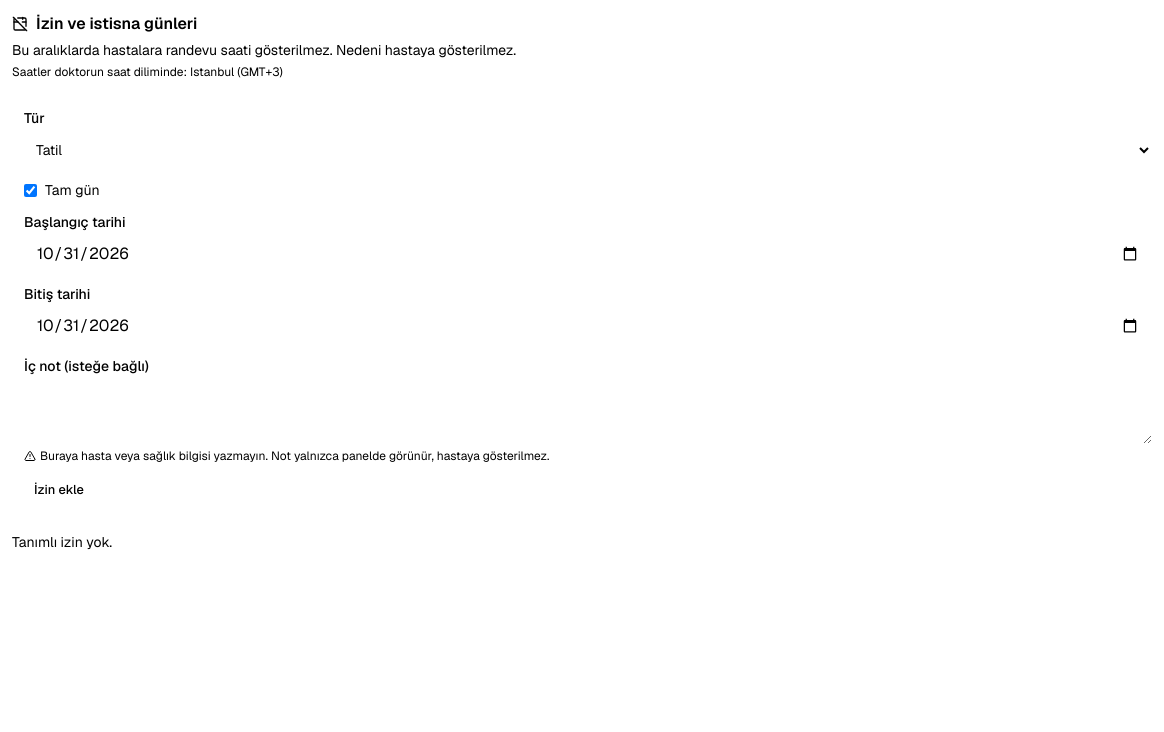
Test case: izin yönetimi › iç not uyarısı görünür; çakışan onaylı randevular kayıttan sonra listelenir (kayıt engellenmez)
Expected: the text "hasta veya sağlık bilgisi yazmayın" is shown, x1=40 y1=448 x2=549 y2=464
Select "Kongre" in the dropdown labelled "Tür": (588, 150) x1=24 y1=132 x2=1152 y2=168
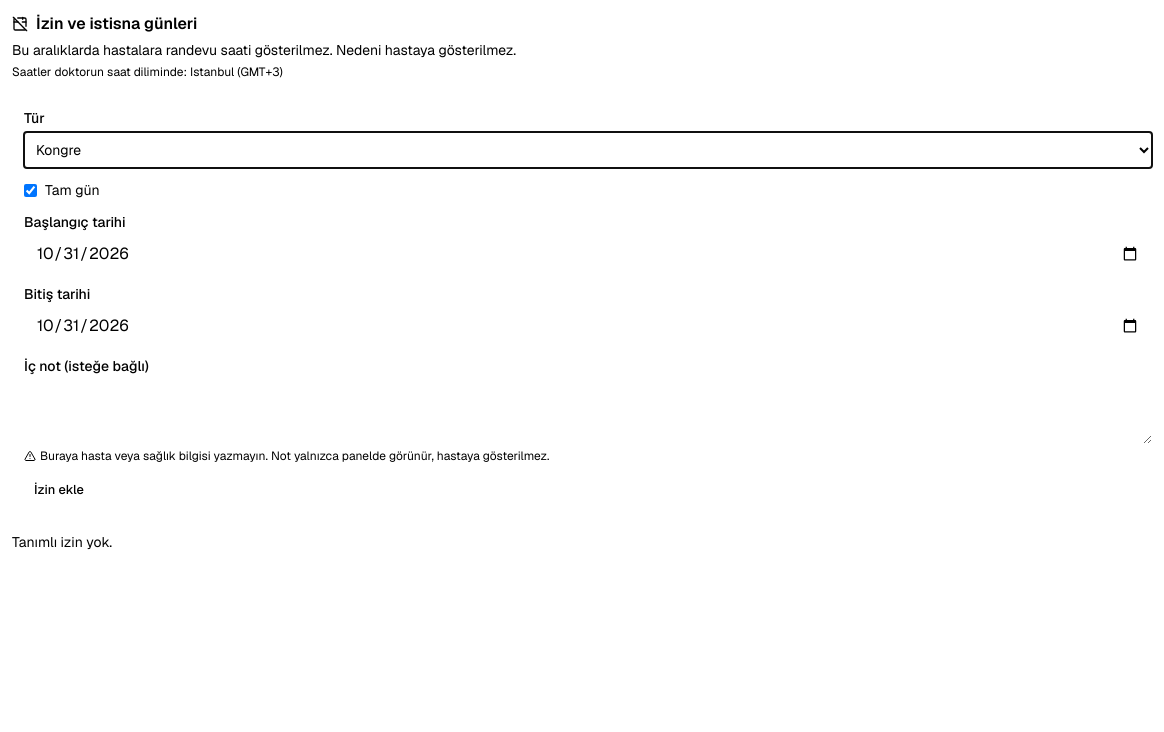
In the date field labelled "Başlangıç tarihi": (588, 254) x1=24 y1=236 x2=1152 y2=272, type "2026-11-03"
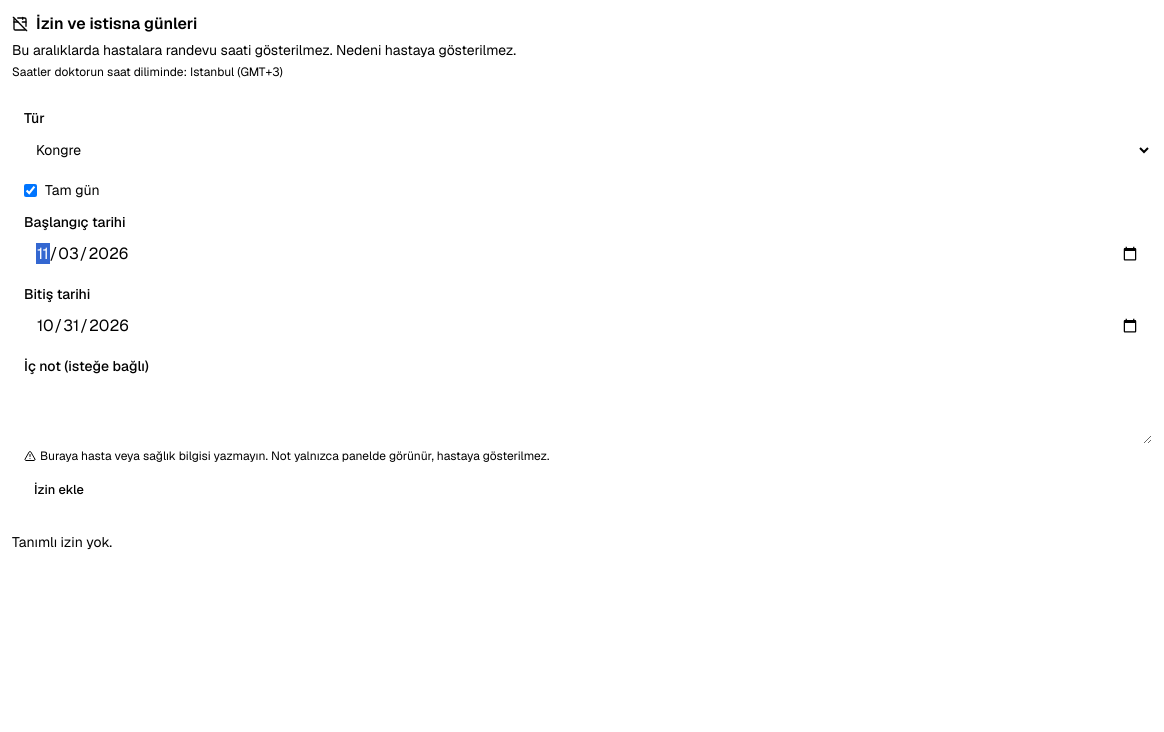
In the date field labelled "Bitiş tarihi": (588, 326) x1=24 y1=308 x2=1152 y2=344, type "2026-11-03"
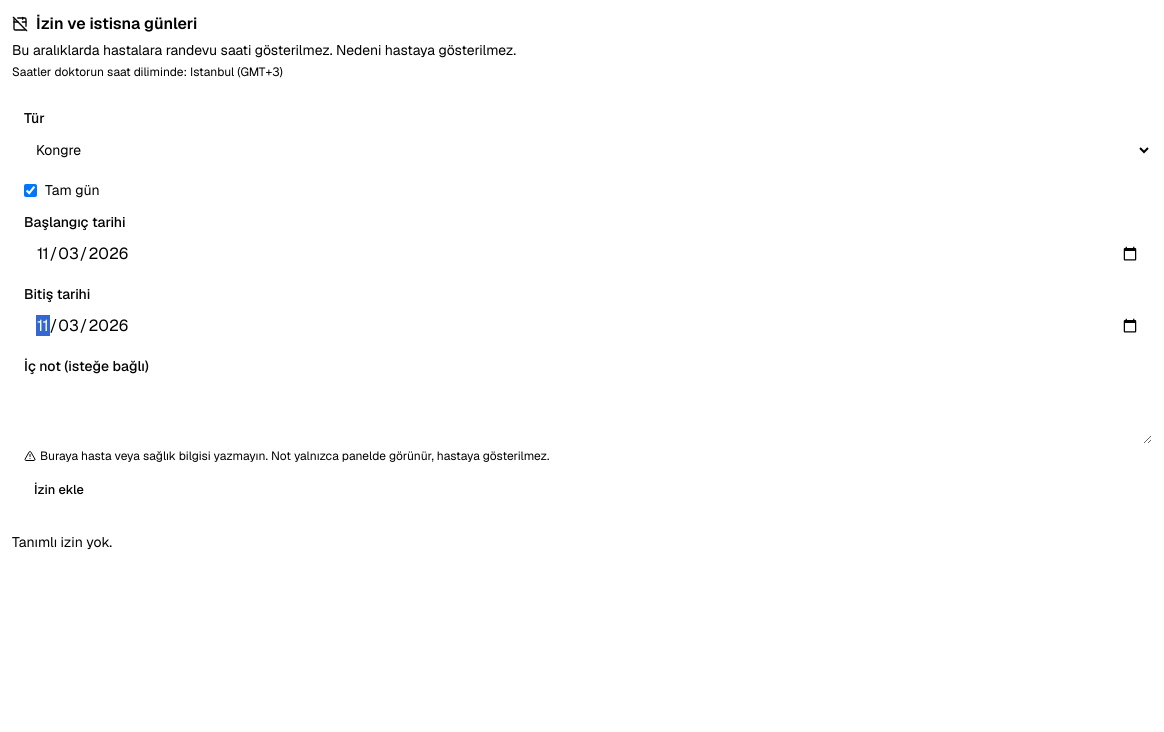
Click the button "İzin ekle": (59, 490) x1=24 y1=476 x2=94 y2=504
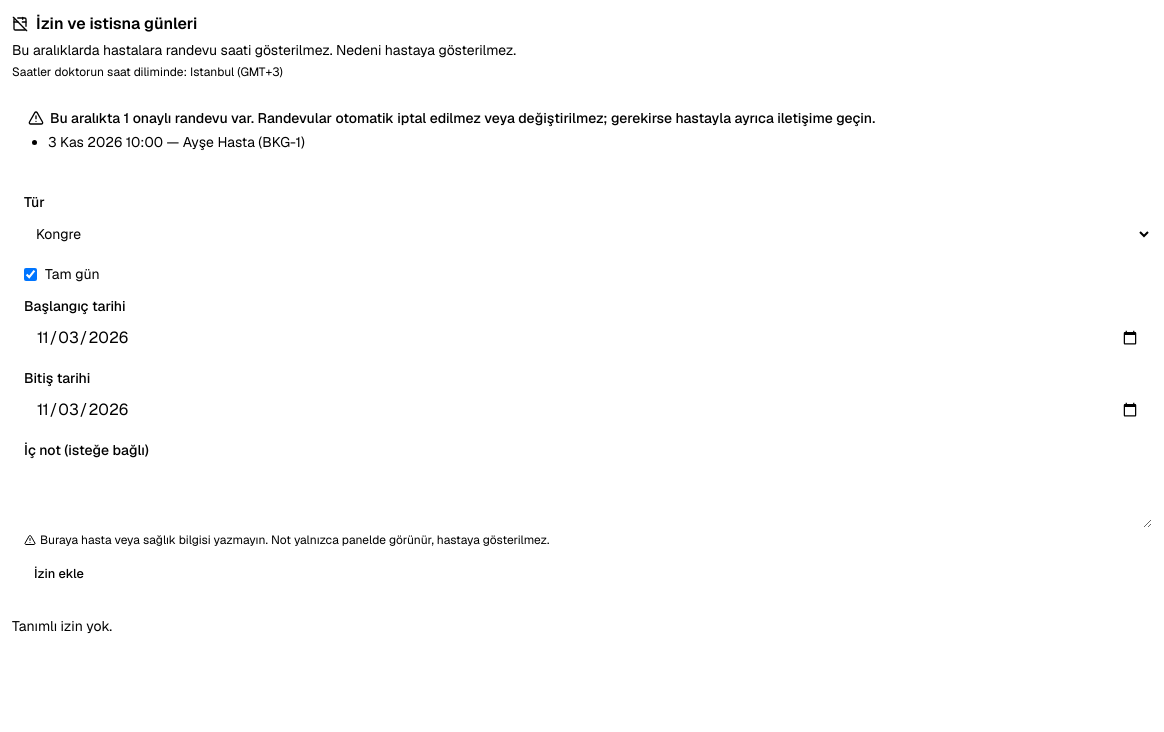
Result: the element with test id "time-off-conflicts" shows "1 onaylı randevu var" at x1=50 y1=109 x2=875 y2=127
Result: the element with test id "time-off-conflicts" shows "Ayşe Hasta (BKG-1)" at x1=28 y1=109 x2=875 y2=151
